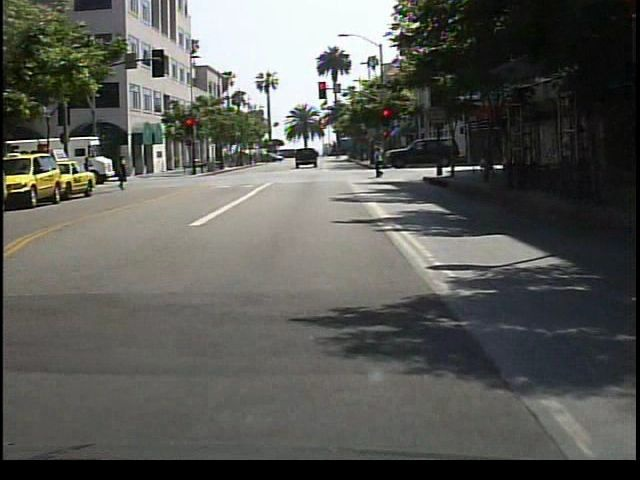person: (476, 138, 497, 183), (372, 147, 391, 181), (115, 157, 131, 193)
